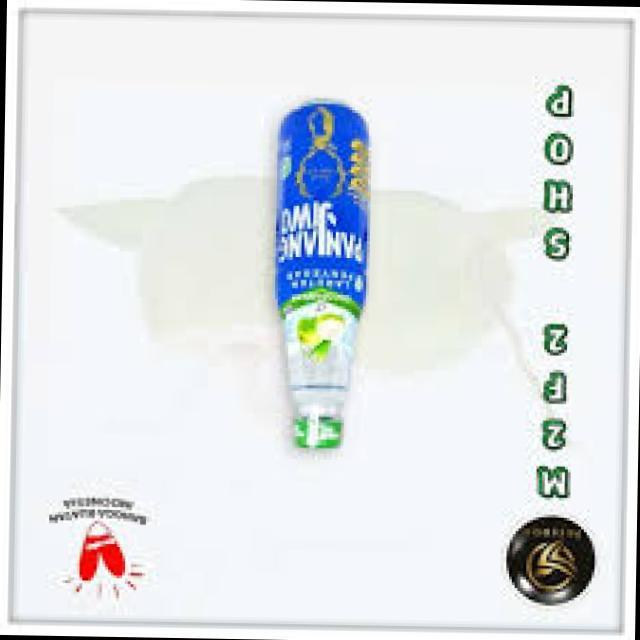good: (261, 94, 364, 462)
